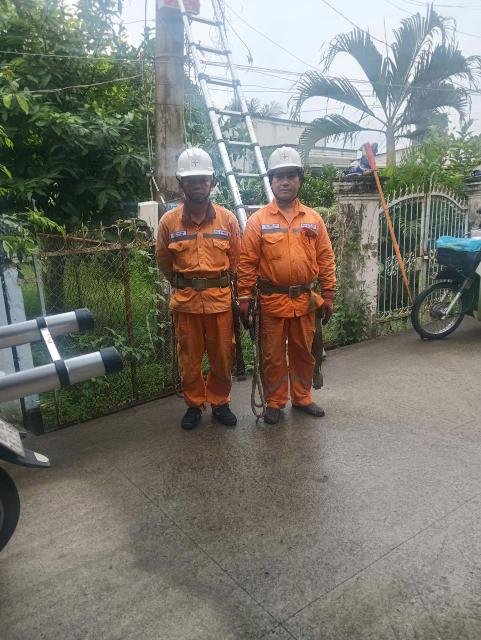harness: (250, 267, 321, 312), (169, 263, 236, 295)
helmet: (168, 141, 223, 190), (260, 139, 311, 182)
shoes: (286, 394, 331, 423), (209, 397, 244, 431), (177, 398, 207, 432), (259, 396, 278, 426)
